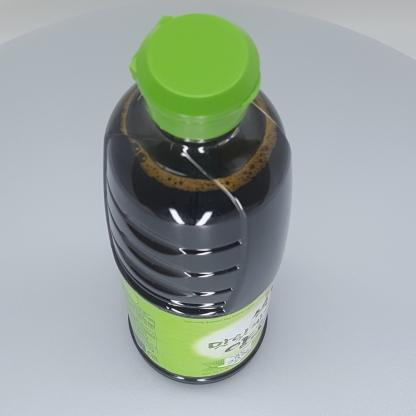-------------: (103, 12, 293, 385)
